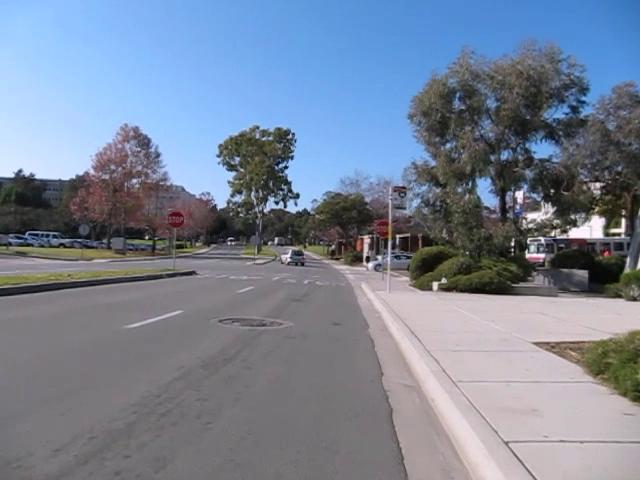stop: (166, 210, 185, 229)
